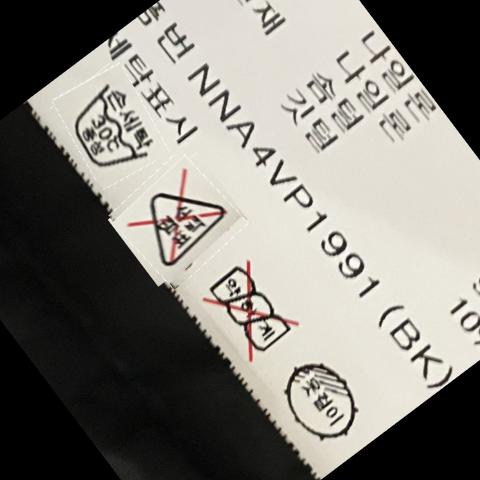DN_wring: (205, 258, 299, 358)
hand_wash: (76, 82, 159, 171)
line_dry_in_shade: (286, 350, 365, 442)
non_chlorine_bleach: (141, 173, 226, 270)
